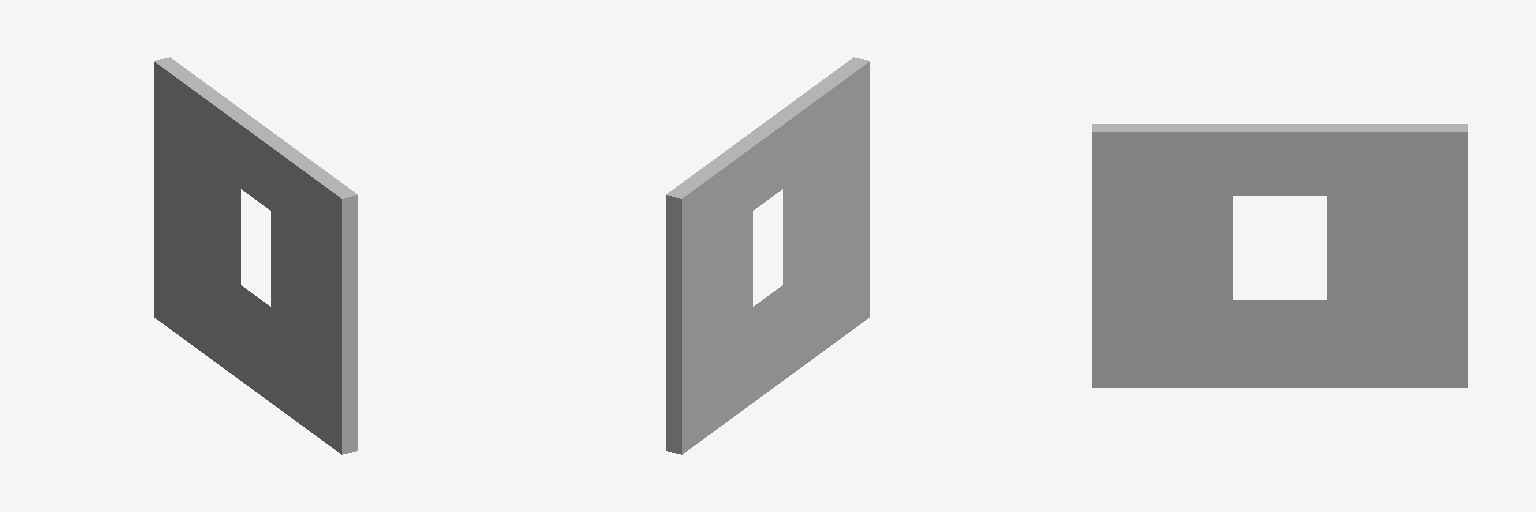
The model's file is wall_2.obj.
3 views of the same model, side by side, from view 1: azimuth 30°, elevation 25°; view 2: azimuth 150°, elevation 25°; view 3: azimuth 270°, elevation 25° (orthographic).
Visible parts, largest first — view 1: Cube.001_Cube.002; view 2: Cube.001_Cube.002; view 3: Cube.001_Cube.002.
Boxes of the visible parts, x1,y1,x2,y2 form: Cube.001_Cube.002: [154, 57, 357, 454]; Cube.001_Cube.002: [666, 57, 869, 454]; Cube.001_Cube.002: [1092, 124, 1467, 387].
Bounding box in the file's own units: 0.1 × 1.5 × 2.